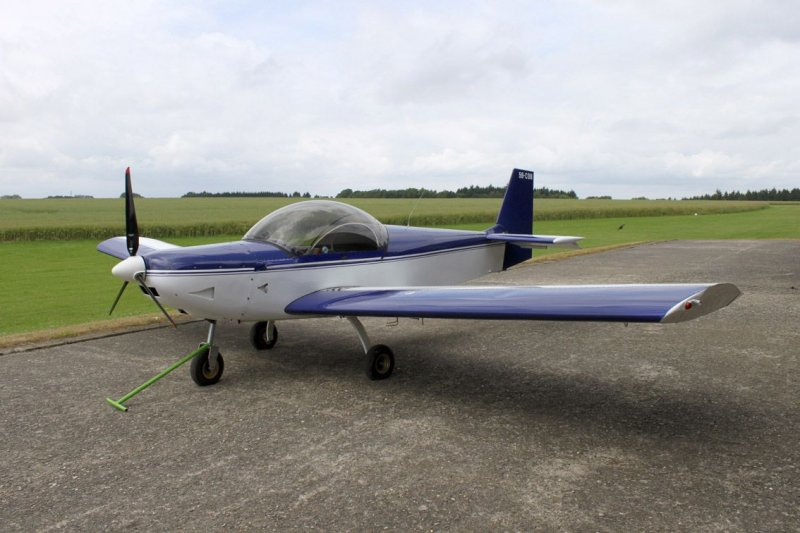Aeronef_de_loisir: (78, 157, 758, 420)
